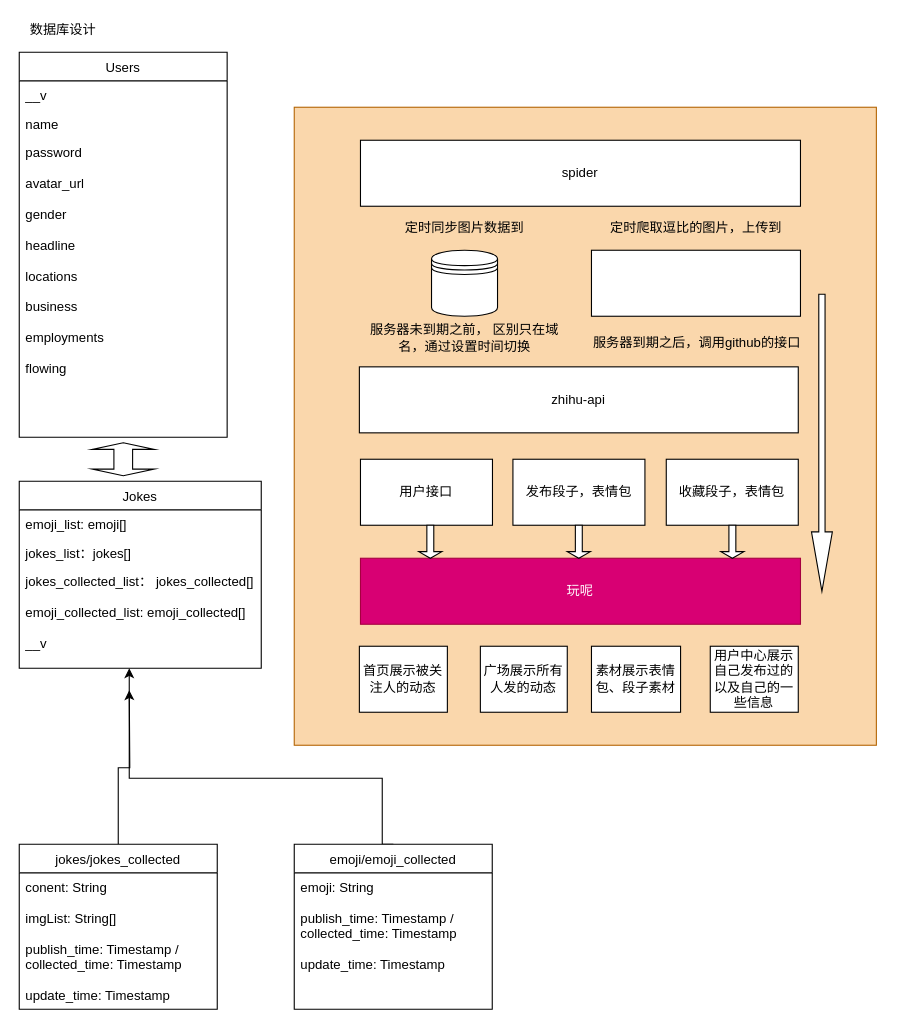
The diagram is 897 pixels wide and 1031 high, and some of its shapes have lost their labels. The centre of each missing label's shape, as x and y in pixels:
"github/diagrams" goes at [695,282].
"spider数据库" goes at [464,282].
